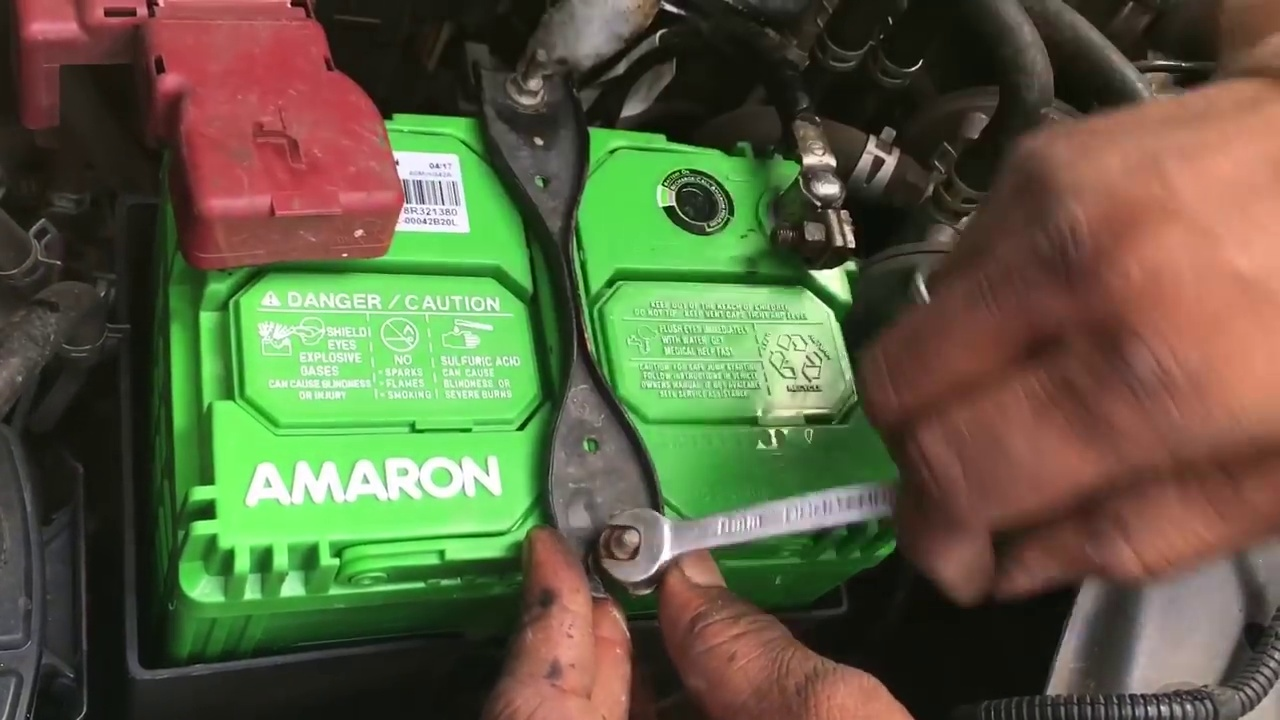battery: (152, 82, 901, 618)
neg_connected: (749, 112, 867, 276)
pos_connected: (12, 9, 437, 269)
